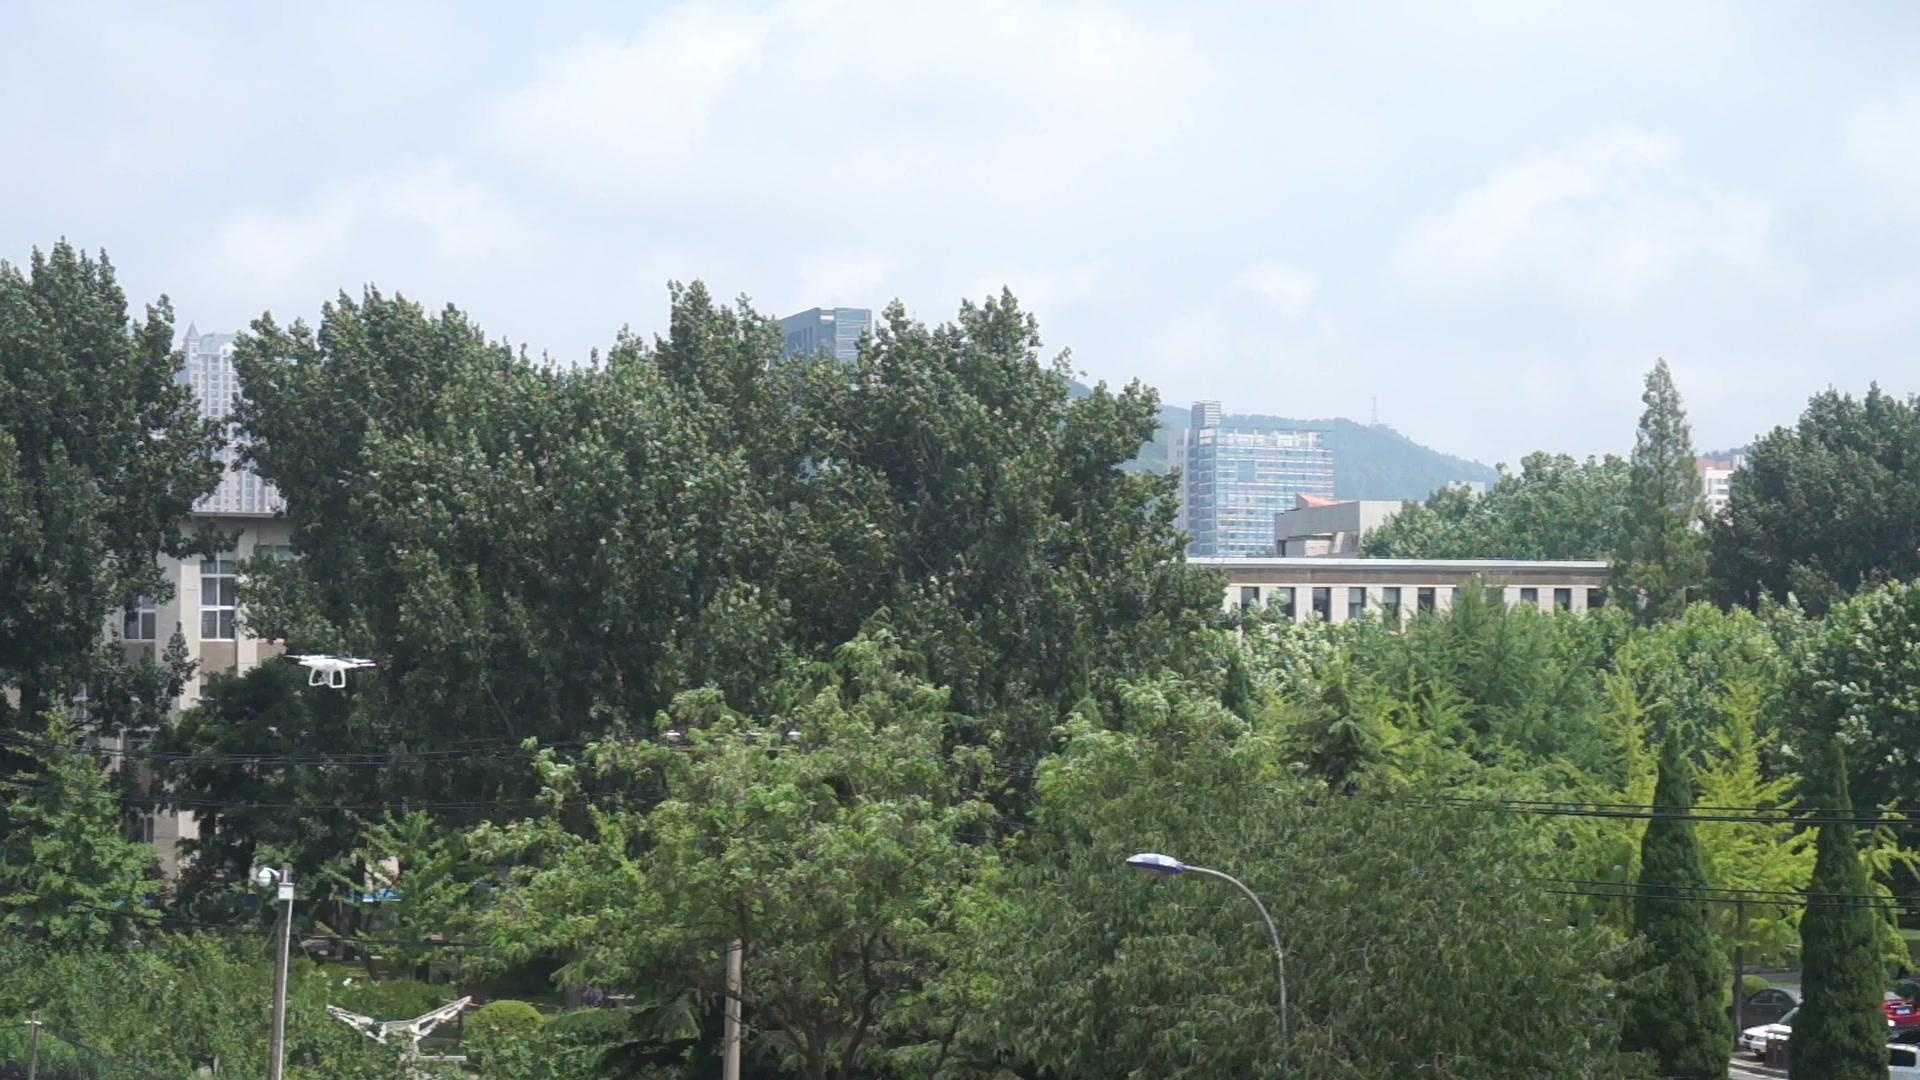UAV: (284, 655, 378, 688)
